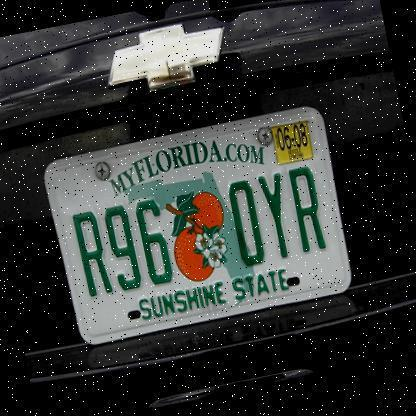License-Plate: (32, 89, 363, 363)
